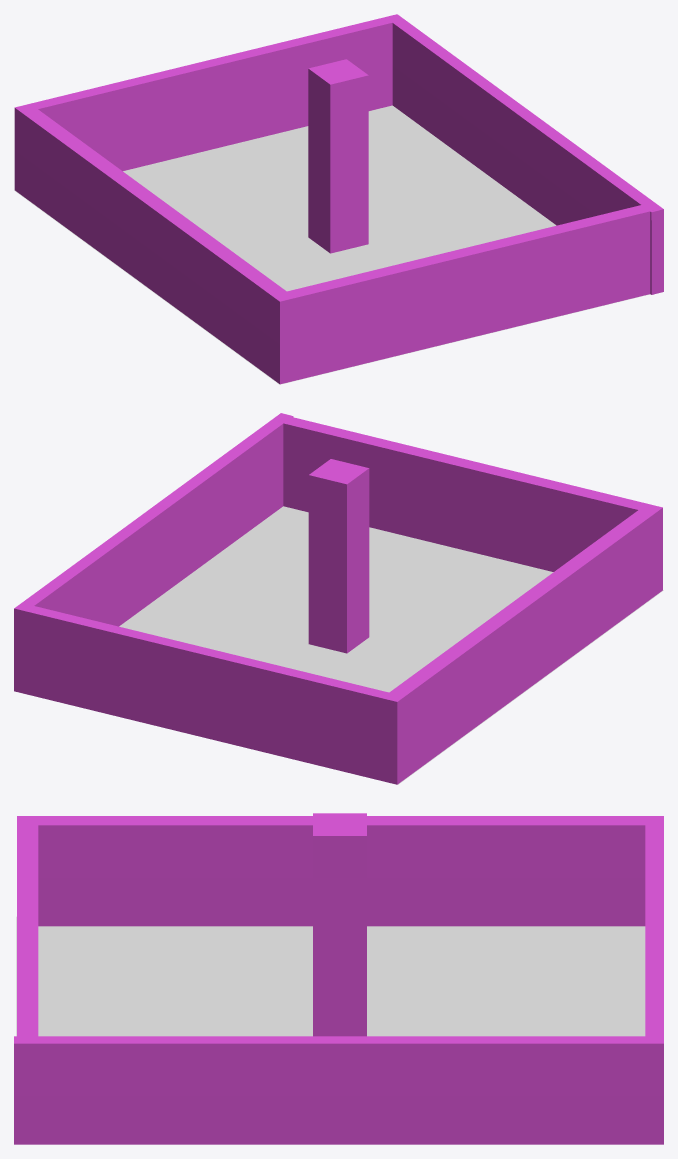
Rendered from floorplan-test.gltf.
The picture shows the model from 3 angles, top to bottom: view 1: azimuth 30°, elevation 25°; view 2: azimuth 150°, elevation 25°; view 3: azimuth 270°, elevation 25°; orthographic projection. The views are drawn at different scales.
Parts seen in each view (by area): view 1: Würfel, Fläche; view 2: Würfel, Fläche; view 3: Würfel, Fläche.
Boxes of the visible parts, <box> form: Würfel: <box>14,14,663,384</box>; Fläche: <box>14,105,649,384</box>; Würfel: <box>14,413,662,784</box>; Fläche: <box>119,506,663,784</box>; Würfel: <box>14,813,663,1144</box>; Fläche: <box>16,916,645,1036</box>.
Bounding box in the file's own units: 20 × 8.42 × 24.08.
